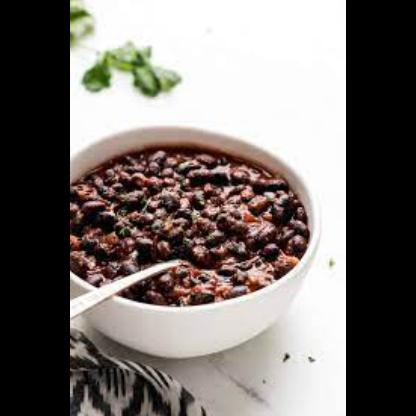black beans: (69, 143, 309, 303)
